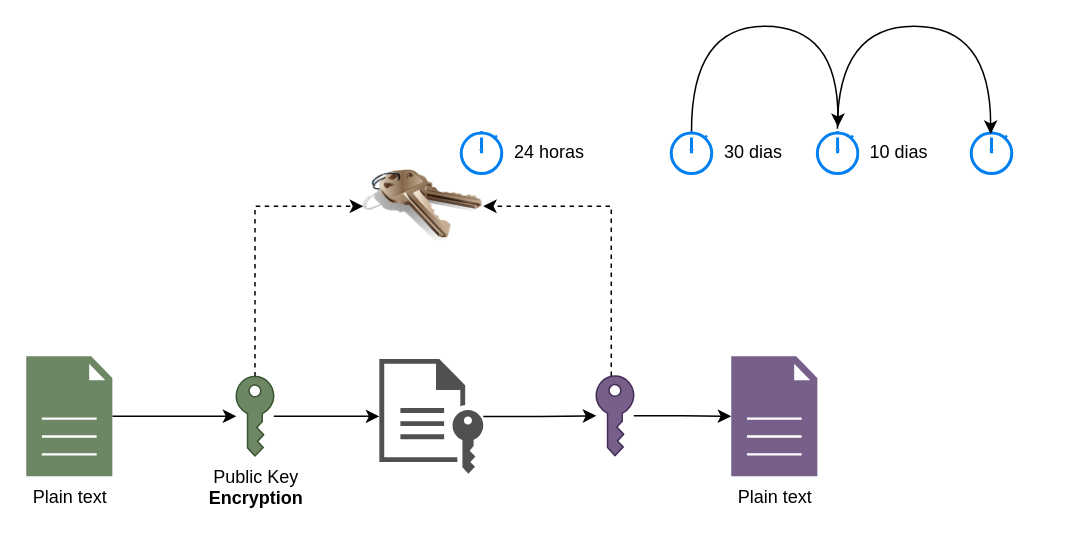
Some shapes in this 1091 by 554 pixel diagram are drawn without their labels. Here are the shapes that lost their labels. From the top down, the box of each, then its label:
(969, 129, 1012, 174): 1 dia
(379, 358, 483, 473): Cyphertext (Encrypted)
(595, 375, 634, 456): Private Key Decryption
